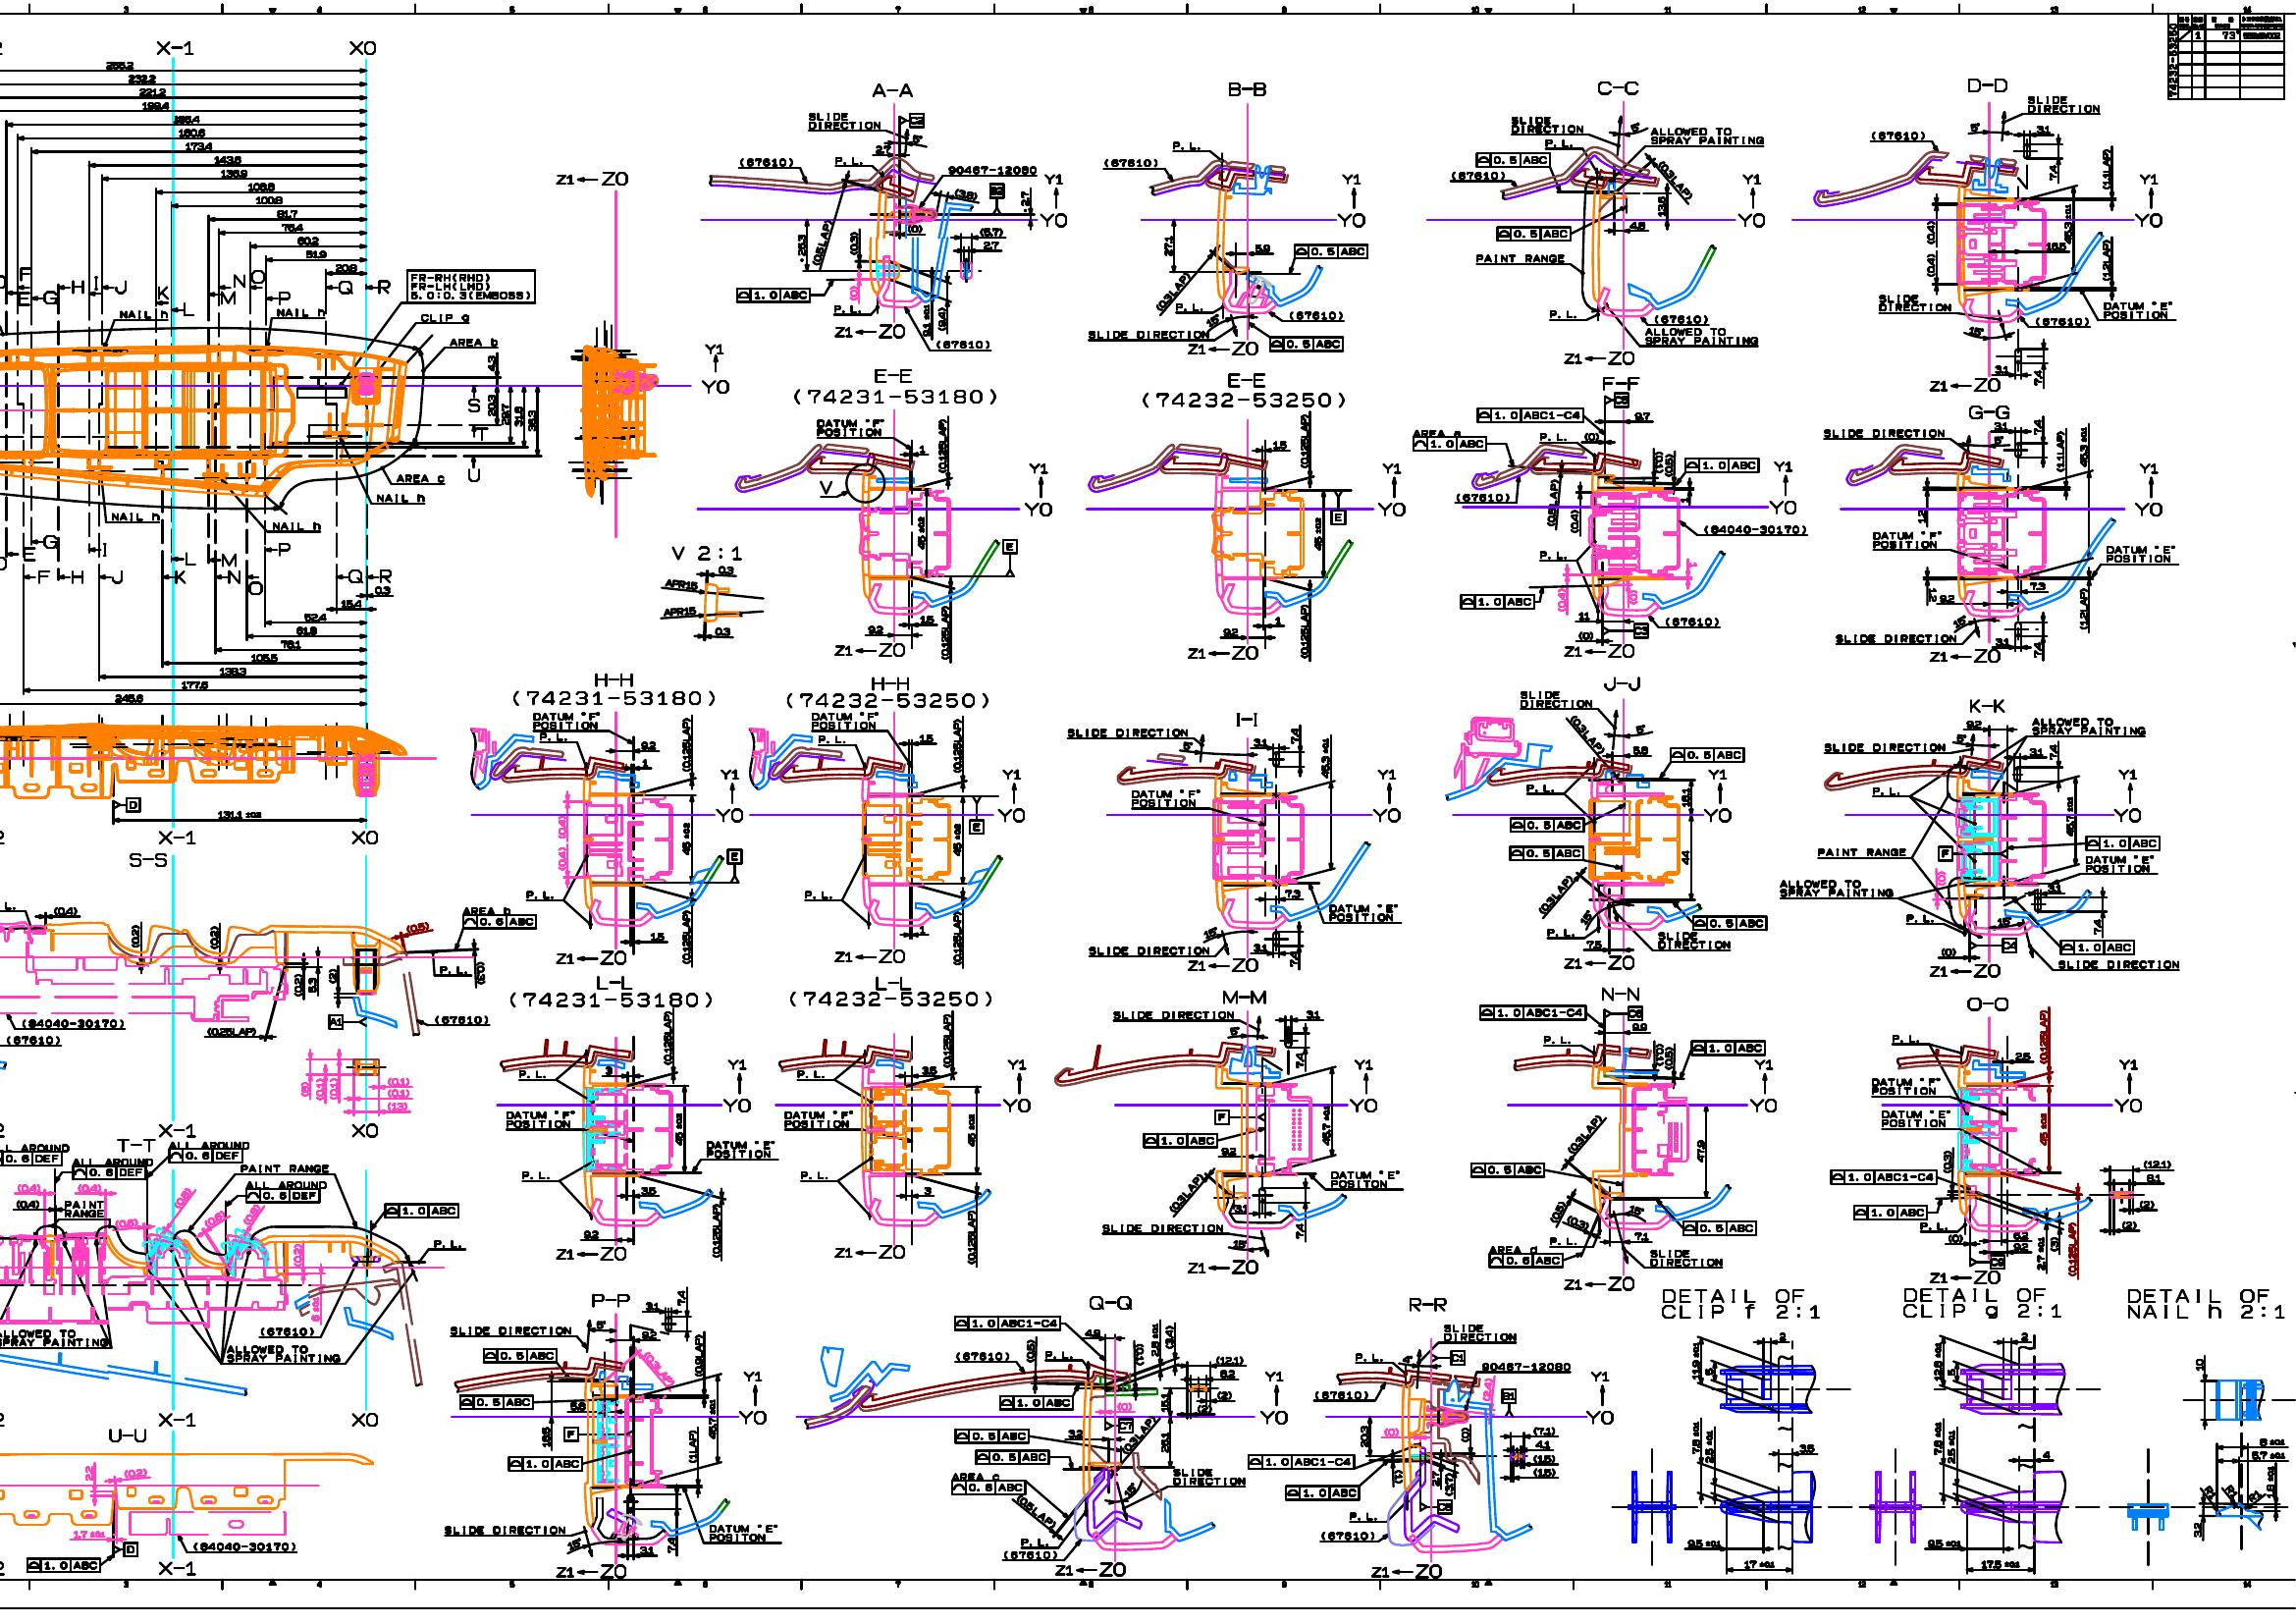anntotation_text: (792, 367, 996, 406), (1142, 373, 1346, 408), (513, 671, 715, 707), (509, 975, 713, 1007), (789, 975, 991, 1007), (787, 677, 989, 708), (2126, 1287, 2285, 1318), (1903, 1287, 2061, 1318), (1660, 1288, 1822, 1318), (406, 269, 536, 304), (2031, 717, 2147, 735), (1650, 127, 1764, 144), (1644, 327, 1758, 344), (1780, 879, 1894, 896), (227, 1345, 341, 1362), (246, 1179, 329, 1202), (0, 1329, 107, 1346), (1488, 1244, 1563, 1267), (72, 1158, 153, 1179), (169, 1141, 249, 1162), (950, 1471, 1024, 1494), (1830, 1169, 1936, 1185), (1585, 1371, 1614, 1425), (1702, 768, 1732, 823), (1737, 172, 1765, 228), (1337, 172, 1365, 228), (2134, 172, 2162, 228), (0, 1142, 69, 1165), (462, 907, 536, 928), (1412, 429, 1486, 450), (1260, 1371, 1288, 1425), (738, 1371, 766, 1425), (1349, 1058, 1377, 1113), (2113, 1058, 2141, 1113), (722, 1058, 750, 1113), (1003, 1058, 1031, 1113), (2113, 768, 2141, 823), (1372, 768, 1400, 823), (715, 768, 743, 823), (1024, 462, 1052, 517), (1377, 462, 1405, 517), (2134, 462, 2162, 517), (1247, 1454, 1354, 1468), (1040, 172, 1066, 228), (1477, 408, 1583, 422), (1769, 460, 1797, 513), (1481, 1005, 1585, 1019), (998, 768, 1024, 823), (701, 343, 729, 394), (1750, 1058, 1776, 1111), (1332, 1169, 1400, 1188), (1442, 1323, 1516, 1341), (1172, 1468, 1245, 1485), (1657, 932, 1730, 949), (1878, 294, 1952, 311), (812, 710, 878, 729), (532, 710, 599, 729), (450, 1325, 571, 1336), (956, 1316, 1059, 1329), (2027, 95, 2099, 112), (708, 1524, 778, 1541), (1871, 1077, 1941, 1095), (1881, 1109, 1952, 1127), (1328, 903, 1398, 921), (815, 418, 885, 436), (2103, 301, 2173, 318), (706, 1141, 775, 1158), (506, 1111, 574, 1128), (2085, 854, 2154, 872), (1131, 789, 1200, 807), (1873, 531, 1941, 548), (2106, 545, 2175, 562), (555, 170, 629, 186), (508, 1455, 581, 1471), (1650, 1250, 1723, 1265), (1853, 1204, 1927, 1220), (833, 323, 905, 339), (1511, 116, 1583, 132), (1270, 336, 1342, 352), (808, 112, 880, 128), (1370, 1562, 1442, 1578), (1054, 1561, 1126, 1577), (555, 1562, 627, 1578), (1929, 1269, 2001, 1285), (1671, 747, 1743, 763), (1562, 954, 1634, 970), (1520, 691, 1592, 707), (555, 949, 627, 965), (833, 642, 905, 657), (1563, 350, 1634, 366), (1188, 1258, 1258, 1274), (1563, 1276, 1634, 1292), (783, 1111, 854, 1127), (671, 545, 741, 561), (2057, 960, 2180, 968), (1823, 742, 1946, 750), (1834, 633, 1957, 642), (21, 1018, 123, 1028), (444, 1526, 566, 1534), (1101, 1223, 1223, 1232), (1112, 1011, 1233, 1019), (1066, 728, 1188, 736), (1087, 946, 1209, 954), (1823, 429, 1945, 438), (736, 288, 810, 302), (1476, 153, 1549, 167), (1497, 227, 1570, 241), (1144, 1134, 1217, 1148), (1470, 1162, 1544, 1176), (1683, 1222, 1757, 1236), (2085, 837, 2159, 851), (1509, 817, 1583, 831), (1295, 244, 1367, 258), (1286, 1485, 1358, 1499), (1000, 1396, 1072, 1410), (956, 1429, 1028, 1443), (483, 1348, 555, 1362), (1692, 1040, 1764, 1055), (2061, 940, 2133, 954), (1929, 963, 2001, 977), (555, 1246, 627, 1260), (833, 1244, 905, 1258), (833, 949, 905, 963), (1929, 649, 2001, 663), (1188, 341, 1258, 355), (1188, 958, 1258, 972), (1188, 645, 1258, 659), (1563, 643, 1634, 657), (239, 1164, 329, 1174), (1702, 524, 1806, 533), (975, 1450, 1049, 1462), (1509, 847, 1583, 859), (385, 1204, 458, 1216), (1460, 596, 1534, 608), (1685, 459, 1758, 471), (193, 1541, 295, 1550), (460, 1396, 532, 1408), (1693, 916, 1765, 928), (1929, 378, 2001, 390), (1087, 330, 1209, 337), (40, 1557, 98, 1571), (1476, 253, 1565, 262), (947, 165, 1036, 174), (1816, 847, 1906, 856), (63, 1200, 104, 1218), (1967, 404, 2010, 420), (158, 830, 195, 847), (1967, 77, 2008, 93), (1481, 1362, 1570, 1369), (1223, 990, 1267, 1004), (1228, 81, 1267, 97), (1600, 986, 1639, 1002), (107, 1427, 146, 1443), (158, 1561, 197, 1577), (1602, 675, 1641, 691), (1597, 81, 1639, 95), (871, 83, 913, 97), (1089, 1295, 1131, 1309), (1966, 997, 2008, 1011), (158, 1411, 195, 1427), (1653, 313, 1708, 323), (434, 1014, 488, 1025), (662, 1011, 673, 1065), (952, 910, 963, 965), (952, 717, 963, 772), (590, 1294, 631, 1308), (116, 1137, 156, 1151), (1969, 698, 2004, 714), (1409, 1297, 1448, 1311), (128, 852, 167, 866), (1602, 376, 1641, 390), (1560, 1128, 1609, 1139), (156, 40, 193, 54), (158, 1123, 195, 1137), (966, 1209, 975, 1265), (711, 1202, 720, 1258), (682, 909, 690, 965), (1451, 170, 1505, 179), (1103, 158, 1158, 167), (1314, 1390, 1368, 1399), (1003, 1550, 1058, 1559), (2068, 1222, 2076, 1276), (260, 1327, 314, 1336), (5, 1035, 60, 1044), (942, 1014, 950, 1069), (682, 717, 690, 772), (938, 418, 947, 473), (940, 605, 949, 659), (1300, 413, 1309, 468), (1300, 605, 1309, 659), (1871, 130, 1925, 139), (1289, 311, 1342, 320), (740, 156, 792, 165), (936, 339, 989, 348), (956, 1352, 1008, 1360), (1456, 492, 1509, 501), (1665, 617, 1718, 626), (2036, 316, 2089, 325), (1321, 1531, 1374, 1540), (206, 1026, 256, 1035), (111, 511, 160, 520), (272, 522, 321, 531), (376, 492, 425, 501), (395, 473, 444, 482), (119, 309, 169, 318), (420, 313, 469, 322), (448, 337, 497, 346), (1651, 176, 1699, 185), (798, 237, 845, 246), (1149, 286, 1196, 295), (1012, 1506, 1059, 1515), (351, 1411, 378, 1427), (1163, 1188, 1210, 1197), (278, 308, 325, 316), (351, 828, 378, 844), (1532, 889, 1579, 898), (1563, 729, 1611, 738), (1548, 478, 1556, 526), (2040, 1009, 2047, 1065), (348, 40, 376, 54), (694, 1334, 703, 1376), (351, 1123, 378, 1137), (2055, 431, 2064, 473), (2101, 239, 2110, 281), (2101, 148, 2110, 188), (1114, 1431, 1163, 1438), (1237, 710, 1258, 726), (525, 889, 553, 900), (2080, 587, 2087, 629), (689, 1429, 697, 1462), (1918, 1222, 1948, 1230), (1525, 784, 1555, 793), (248, 580, 264, 596), (348, 568, 364, 584), (337, 279, 353, 295), (833, 304, 861, 313), (1544, 139, 1572, 148), (1175, 302, 1203, 311), (1172, 141, 1200, 149), (799, 1171, 827, 1179), (1354, 1352, 1383, 1360), (1045, 1350, 1073, 1359), (1542, 1035, 1570, 1044), (1906, 914, 1934, 923), (439, 965, 467, 974), (522, 1171, 550, 1179), (518, 1069, 546, 1077), (796, 1069, 824, 1077), (1546, 928, 1574, 937), (817, 735, 845, 743), (805, 889, 833, 898), (539, 733, 567, 742), (1539, 432, 1567, 441), (1539, 550, 1567, 559), (1349, 1512, 1377, 1520), (1549, 309, 1576, 318), (1549, 1236, 1576, 1244), (1892, 1033, 1918, 1042), (1873, 786, 1899, 794), (220, 290, 235, 304), (727, 849, 741, 865), (1330, 510, 1346, 524), (834, 156, 863, 163), (989, 183, 1003, 197), (1502, 1388, 1516, 1403), (1021, 1538, 1049, 1545), (564, 1427, 578, 1441), (1216, 1109, 1230, 1123), (2003, 939, 2017, 953), (42, 534, 56, 548), (227, 569, 241, 584), (42, 290, 56, 304), (16, 292, 30, 306), (232, 274, 246, 288), (249, 269, 264, 283), (434, 1239, 462, 1246), (329, 1014, 343, 1028), (819, 480, 833, 494), (1003, 540, 1017, 554), (1614, 392, 1628, 406), (1634, 624, 1648, 638), (221, 554, 237, 566), (379, 568, 392, 584), (476, 425, 488, 441), (114, 279, 126, 295), (378, 279, 390, 295), (23, 547, 35, 562), (908, 114, 922, 127), (1119, 1418, 1131, 1432), (1990, 1257, 2004, 1269), (70, 569, 83, 584), (111, 569, 123, 584), (184, 552, 197, 566), (174, 569, 186, 584), (278, 541, 290, 555), (467, 468, 480, 482), (467, 397, 480, 411), (70, 279, 83, 294), (183, 302, 195, 316), (278, 290, 290, 304), (123, 1543, 137, 1555), (970, 819, 982, 833), (126, 798, 139, 812), (37, 569, 49, 584), (19, 265, 30, 281), (1451, 1352, 1463, 1364), (1439, 1501, 1451, 1513), (1628, 1007, 1641, 1019), (1939, 847, 1952, 859), (156, 286, 169, 299), (102, 541, 105, 557), (95, 274, 98, 290)
dimension_text: (664, 578, 699, 591), (242, 1204, 260, 1225), (174, 1186, 191, 1207), (1321, 738, 1330, 779), (1321, 1106, 1330, 1146), (1704, 1429, 1715, 1462), (1980, 1559, 2018, 1568), (1692, 1341, 1700, 1380), (204, 1209, 225, 1225), (1549, 1200, 1565, 1222), (1932, 1343, 1941, 1380), (216, 810, 262, 817), (2250, 1450, 2285, 1459), (1932, 1420, 1941, 1455), (1686, 1538, 1722, 1547), (2036, 1236, 2045, 1271), (954, 188, 978, 200), (1567, 1214, 1588, 1229), (2080, 425, 2087, 468), (72, 1529, 105, 1538), (952, 823, 961, 856), (682, 823, 690, 856), (922, 304, 931, 337), (1946, 1429, 1955, 1462), (1927, 1538, 1960, 1547), (708, 1399, 715, 1439), (2066, 796, 2073, 837), (2064, 204, 2071, 244), (406, 921, 429, 933), (2266, 1466, 2275, 1497), (966, 1114, 975, 1146), (664, 606, 696, 615), (1743, 1559, 1774, 1568), (114, 692, 144, 701), (1569, 508, 1579, 533), (249, 652, 278, 661), (255, 195, 283, 204), (220, 169, 248, 178), (184, 141, 213, 149), (1151, 1322, 1158, 1357), (177, 128, 206, 137), (917, 515, 924, 550), (1692, 1420, 1699, 1454), (2040, 1113, 2047, 1146), (1314, 517, 1321, 550), (311, 1295, 320, 1322), (181, 680, 207, 689), (220, 666, 246, 675), (248, 181, 274, 190), (214, 155, 241, 163), (1216, 1355, 1242, 1364), (2143, 1160, 2170, 1169), (128, 74, 155, 83), (675, 1113, 682, 1144), (1534, 1425, 1555, 1436), (77, 1183, 102, 1192), (16, 1183, 40, 1192), (978, 227, 1003, 236), (848, 230, 857, 255), (1532, 1468, 1556, 1476), (1444, 1471, 1453, 1496), (1165, 1325, 1173, 1350), (1664, 1046, 1672, 1070), (1655, 1042, 1664, 1067), (1943, 1149, 1952, 1174), (1925, 253, 1934, 278), (1925, 220, 1934, 244), (293, 1243, 302, 1265), (16, 1199, 39, 1207), (329, 1077, 337, 1100), (314, 1077, 323, 1100), (209, 926, 218, 949), (130, 924, 139, 947), (293, 974, 302, 997), (557, 816, 566, 838), (557, 847, 566, 870), (279, 640, 302, 649), (487, 394, 495, 417), (297, 236, 320, 244), (1483, 1378, 1491, 1401), (1655, 450, 1664, 473), (566, 1536, 580, 1550), (172, 116, 200, 123), (141, 102, 169, 109), (105, 62, 134, 69), (2259, 1438, 2285, 1445), (541, 1425, 550, 1446), (295, 626, 316, 634), (527, 410, 536, 431), (306, 250, 327, 258), (1657, 195, 1665, 216), (1163, 236, 1172, 257), (1534, 1454, 1555, 1462), (139, 88, 165, 95), (1556, 589, 1565, 610), (2203, 1485, 2215, 1499), (2249, 1489, 2261, 1503), (123, 1469, 148, 1476), (114, 1218, 139, 1225), (53, 907, 77, 914), (1203, 926, 1217, 939), (938, 306, 945, 330), (1124, 1482, 1137, 1496), (1579, 909, 1592, 923), (1665, 453, 1672, 478), (513, 406, 522, 425), (1159, 1392, 1168, 1411), (1159, 1432, 1168, 1452), (1681, 787, 1690, 807), (2047, 241, 2066, 250), (583, 1229, 599, 1239), (718, 564, 734, 575), (1799, 1443, 1815, 1454), (1628, 1204, 1644, 1214), (1966, 719, 1982, 729), (304, 613, 327, 620), (501, 402, 508, 425), (281, 223, 304, 230), (1137, 1343, 1144, 1366), (1026, 1339, 1033, 1362), (478, 961, 485, 984), (1697, 1139, 1704, 1162), (666, 1536, 675, 1554), (1432, 1469, 1440, 1487), (2029, 582, 2047, 591), (2048, 163, 2057, 181), (1205, 313, 1217, 325), (1953, 615, 1966, 627), (2226, 1483, 2236, 1497), (388, 1077, 409, 1084), (386, 1090, 408, 1097), (386, 1102, 408, 1109), (341, 599, 362, 606), (336, 264, 357, 271), (276, 209, 297, 216), (798, 234, 805, 255), (1535, 1439, 1549, 1450), (1393, 1469, 1404, 1483), (1360, 1425, 1367, 1446), (1936, 872, 1946, 886), (2192, 1522, 2201, 1538), (645, 1301, 661, 1309), (641, 1330, 657, 1339), (571, 1401, 587, 1410), (84, 1464, 93, 1480), (307, 977, 316, 993), (1284, 889, 1300, 898), (1289, 951, 1298, 967), (1289, 728, 1298, 743), (639, 740, 655, 749), (374, 585, 390, 594), (487, 355, 495, 371), (906, 223, 922, 232), (1021, 190, 1029, 206), (875, 144, 891, 153), (1383, 1427, 1398, 1436), (1219, 1369, 1235, 1378), (1066, 1429, 1082, 1438), (676, 1290, 685, 1306), (1221, 1146, 1237, 1155), (1295, 1223, 1303, 1239), (1295, 1053, 1303, 1069), (1305, 1009, 1321, 1018), (1632, 1023, 1648, 1032), (1948, 1234, 1964, 1243), (2050, 1236, 2059, 1251), (2015, 1051, 2031, 1060), (2092, 917, 2101, 933), (1941, 947, 1957, 956), (2048, 743, 2057, 759), (1681, 849, 1690, 865), (1632, 745, 1648, 754), (868, 624, 884, 633), (1272, 439, 1288, 448), (1223, 627, 1238, 636), (1634, 411, 1650, 420), (1578, 631, 1593, 640), (2032, 642, 2041, 657), (2032, 418, 2041, 434), (2032, 369, 2041, 385), (1967, 325, 1983, 334), (1578, 610, 1590, 620), (639, 1545, 653, 1554), (922, 1065, 936, 1074), (329, 968, 337, 982), (1253, 942, 1267, 951), (1253, 738, 1267, 747), (919, 733, 933, 742), (650, 932, 664, 940), (848, 286, 857, 301), (1460, 1427, 1469, 1441), (1217, 1390, 1231, 1399), (1117, 1403, 1131, 1411), (1233, 1239, 1247, 1248), (1634, 1232, 1648, 1241), (2013, 1232, 2027, 1241), (2147, 1174, 2161, 1183), (2122, 1220, 2136, 1229), (2029, 747, 2043, 756), (1585, 940, 1602, 947), (1927, 587, 1936, 601), (1917, 510, 1925, 524), (1994, 364, 2008, 373), (641, 1186, 657, 1193), (715, 627, 731, 634), (1630, 221, 1646, 228), (1254, 244, 1270, 251), (982, 241, 998, 248), (912, 134, 922, 144), (1196, 1404, 1212, 1411), (1084, 1329, 1100, 1336), (1997, 917, 2013, 924), (1583, 432, 1599, 439), (1630, 589, 1637, 605), (1939, 594, 1955, 601), (1994, 638, 2010, 645), (1969, 121, 1980, 132), (2194, 1359, 2203, 1371), (300, 1083, 307, 1097), (1233, 1204, 1247, 1211), (2013, 1243, 2027, 1250), (2140, 1200, 2154, 1207), (921, 615, 935, 622), (1994, 422, 2008, 429), (2036, 125, 2050, 132), (1635, 724, 1646, 733), (1994, 434, 2003, 445), (2048, 884, 2061, 891), (596, 1320, 604, 1329), (604, 1065, 613, 1074), (1630, 121, 1639, 130), (1946, 1367, 1955, 1376), (2041, 1450, 2050, 1459), (1957, 733, 1966, 742), (1182, 742, 1193, 749), (1402, 1355, 1412, 1362), (2020, 1332, 2027, 1341), (641, 758, 648, 766), (1704, 1367, 1713, 1374), (1230, 1026, 1238, 1033), (924, 1186, 931, 1193), (919, 924, 924, 933), (1780, 1332, 1785, 1341), (919, 445, 924, 453), (1275, 615, 1281, 624), (1679, 497, 1688, 503), (1690, 562, 1697, 566)
object: (803, 1345, 1216, 1552), (0, 1230, 423, 1396), (0, 344, 408, 497), (1052, 1040, 1347, 1232), (1444, 715, 1702, 932), (453, 1355, 731, 1547), (748, 726, 1003, 928), (469, 726, 724, 928), (1813, 149, 2105, 322), (0, 919, 420, 1035), (1823, 754, 2090, 935), (1845, 443, 2117, 619), (1087, 443, 1354, 615), (734, 443, 1000, 615), (1116, 750, 1372, 928), (1895, 1042, 2134, 1232), (1470, 445, 1727, 617), (1513, 1042, 1732, 1232), (499, 1037, 713, 1229), (776, 1037, 993, 1227), (708, 156, 973, 308), (1498, 144, 1716, 316), (1335, 1366, 1534, 1554), (1867, 1362, 2066, 1543), (1627, 1364, 1816, 1543), (0, 1452, 374, 1536), (0, 724, 408, 800), (1149, 160, 1325, 315), (2126, 1376, 2266, 1531), (581, 344, 659, 497), (703, 582, 740, 622), (353, 1058, 379, 1076)
title_block: (2168, 14, 2284, 98)
